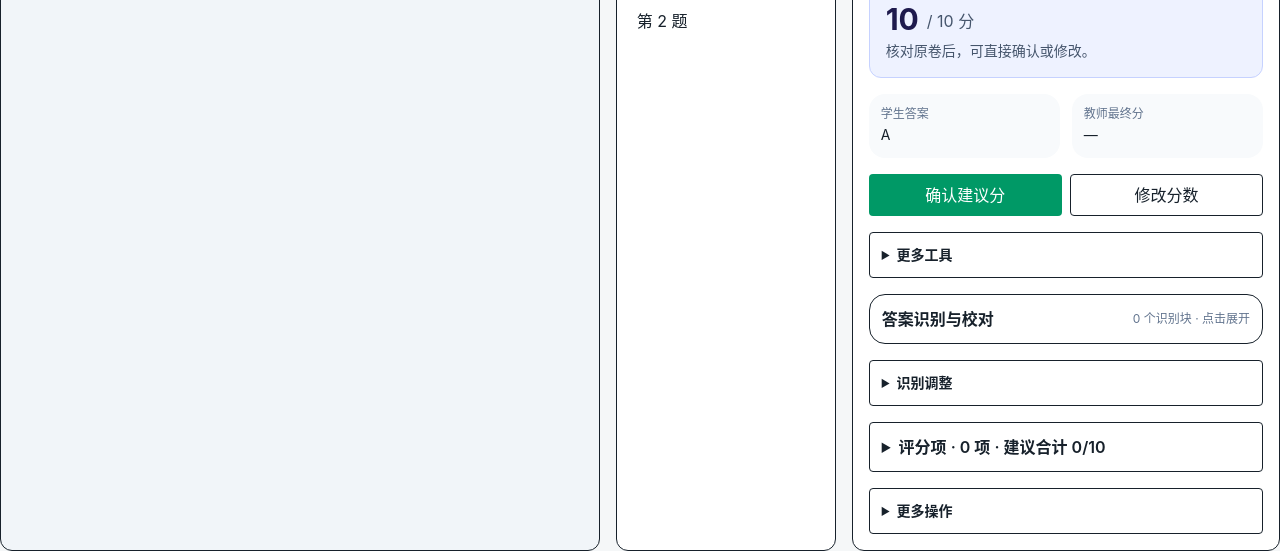
moves to the next exception after saving a score
(page scrolled)
Click the button "修改分数" at (1166, 195), box left=1070, top=174, right=1263, bottom=216
(page scrolled)
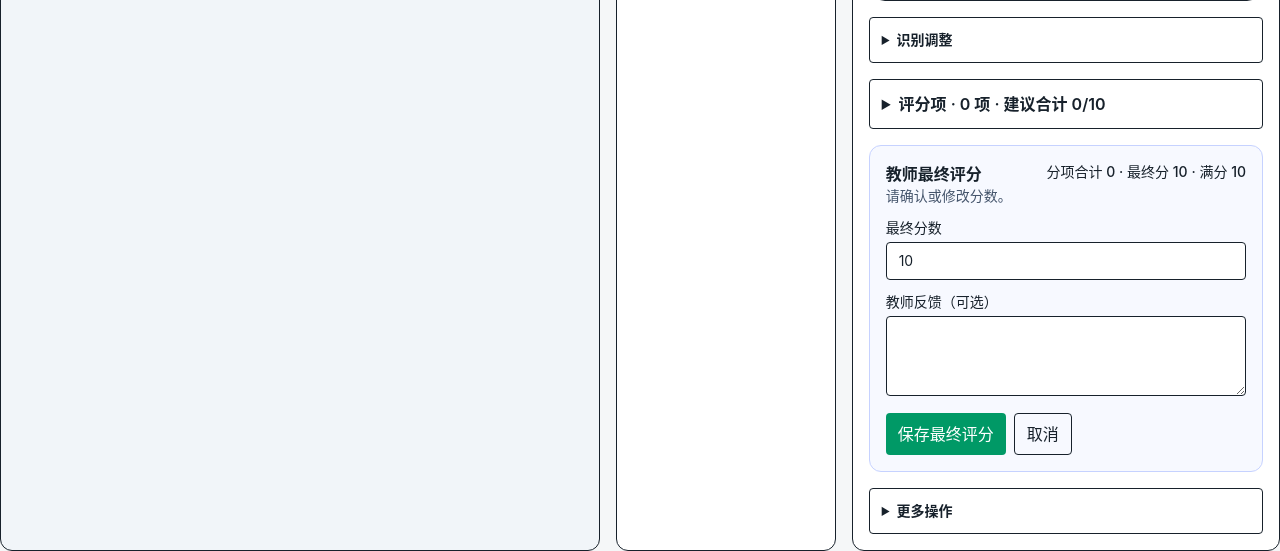
Click the button "保存最终评分" at (946, 434), box left=886, top=413, right=1006, bottom=455
(page scrolled)
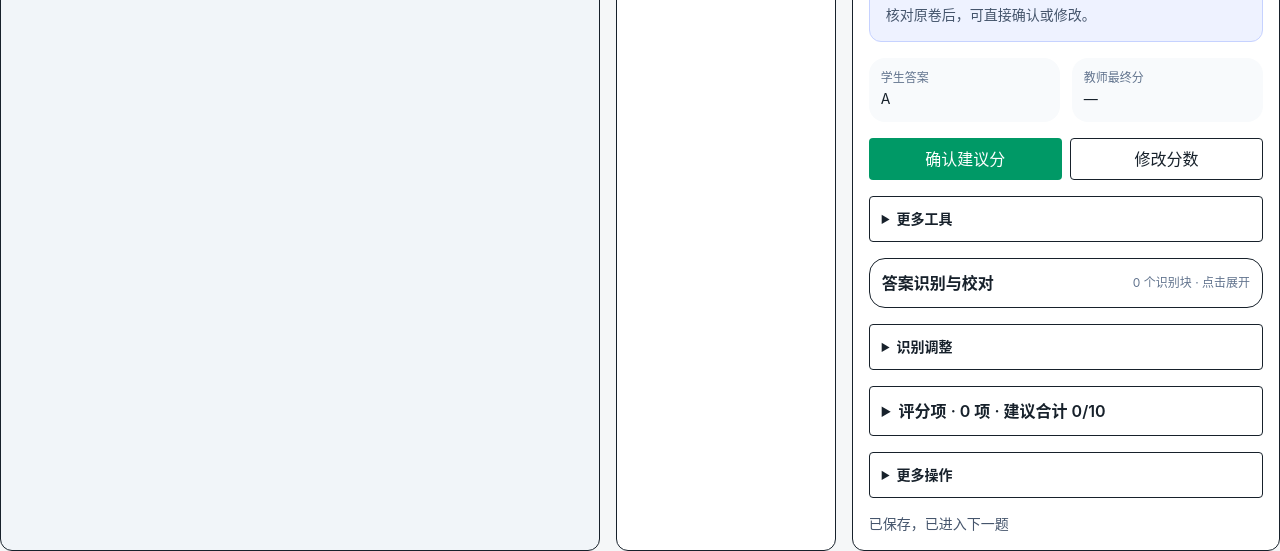
Check: the message reads "已保存，已进入下一题", box left=869, top=515, right=1009, bottom=532
